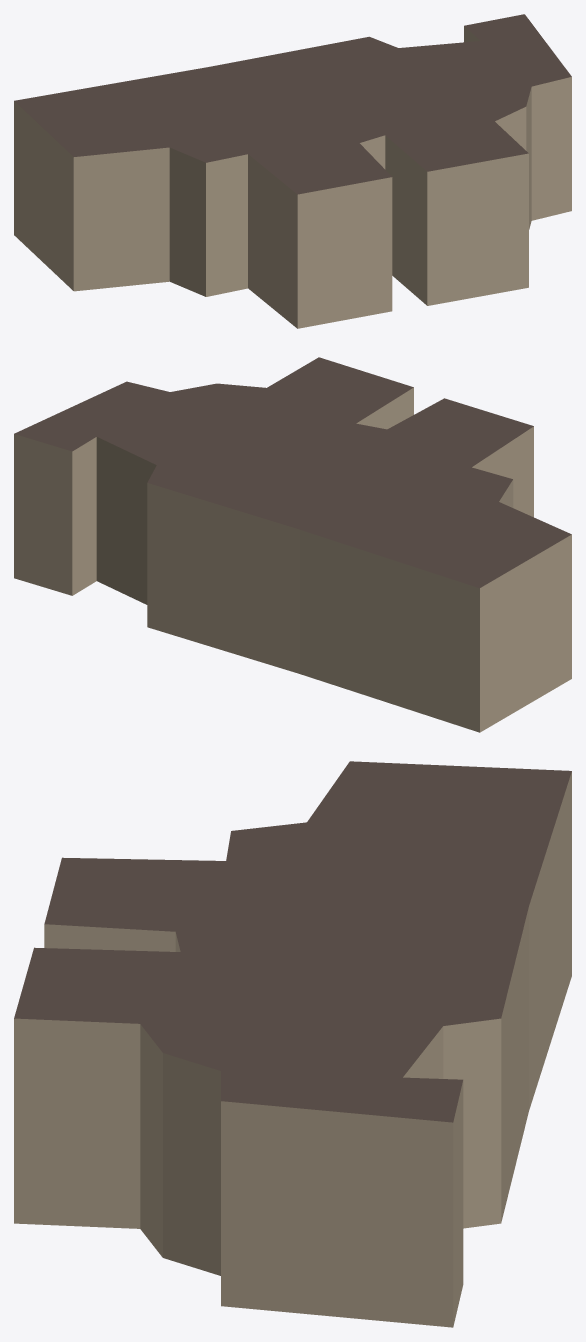
3 renders of one model, top to bottom at view 1: azimuth 30°, elevation 25°; view 2: azimuth 150°, elevation 25°; view 3: azimuth 270°, elevation 25°, orthographic. The views are drawn at different scales.
Visible parts, largest first — view 1: HP-w1515071117; view 2: HP-w1515071117; view 3: HP-w1515071117.
Boxes of the visible parts, x1,y1,x2,y2 form: HP-w1515071117: [14, 14, 571, 328]; HP-w1515071117: [14, 357, 571, 732]; HP-w1515071117: [14, 761, 571, 1327].
Bounding box in the file's own units: 34.01 × 9 × 22.2.
